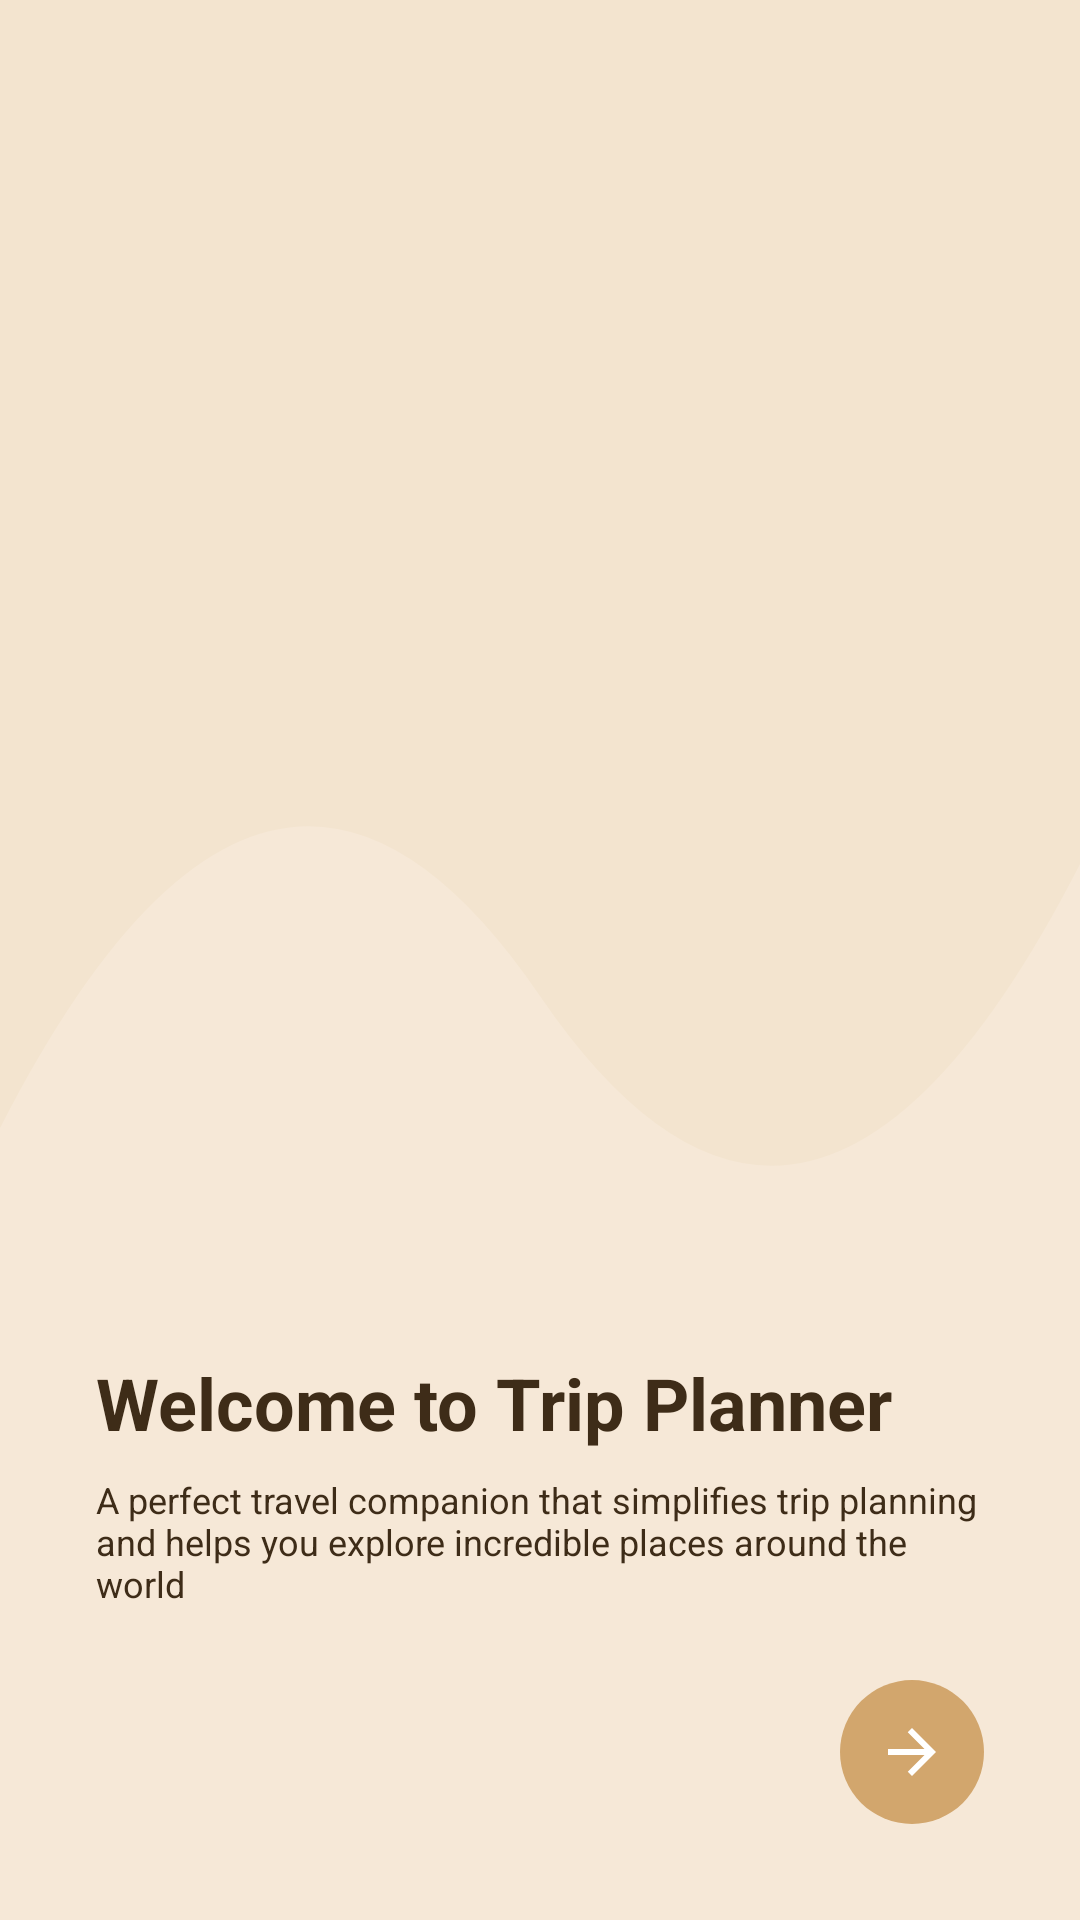

Icon click points for this 1080w x 1920h phone screenshot, format (x,y):
arrow forward: (912,1752)
